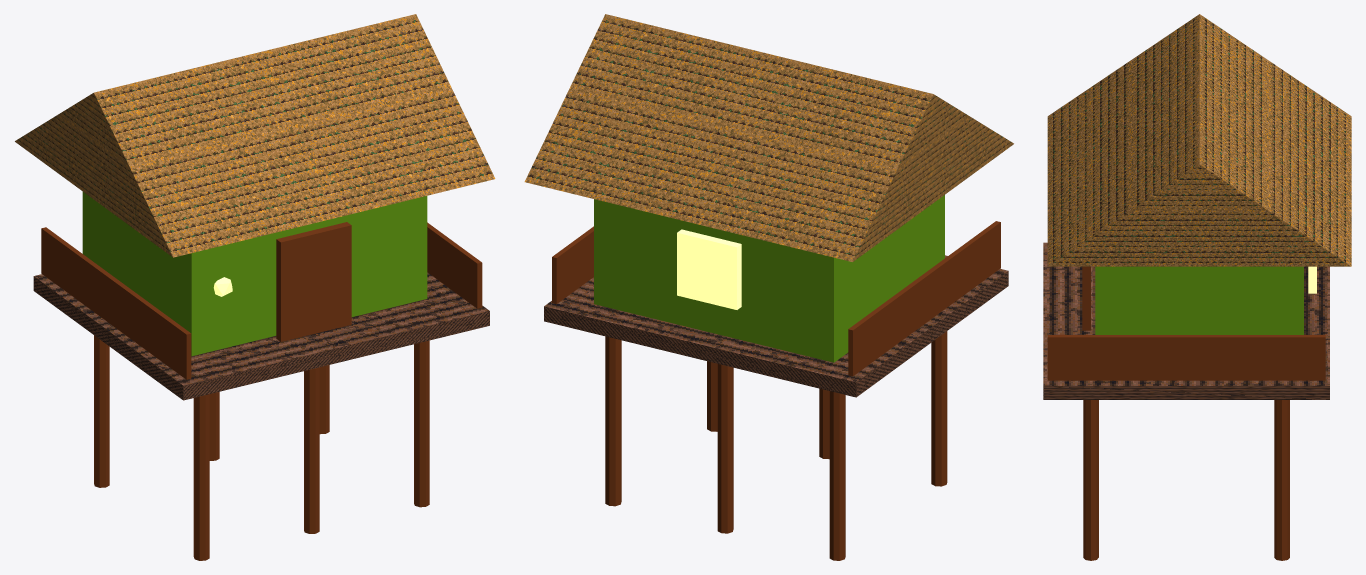
Rendered from palafito.glb.
3 renders of one model, left to right at view 1: azimuth 30°, elevation 25°; view 2: azimuth 150°, elevation 25°; view 3: azimuth 270°, elevation 25°, orthographic. The views are drawn at different scales.
Parts seen in each view (by area): view 1: Palafito_Techo, Cube.003, Cube, Cube.004, Cube.001, Cube.002, Cylinder, Cylinder.004, Cylinder.002, Cylinder.001, Cylinder.003, Cylinder.005; view 2: Palafito_Techo, Cube.003, Cube, Cube.001, Cube.005, Cylinder.003, Cylinder.001, Cylinder.005, Cylinder, Cube.002, Cylinder.004, Cylinder.002; view 3: Palafito_Techo, Cube.003, Cube.002, Cube, Cylinder.005, Cylinder.004, Cube.004.
Part boxes in pixels (<box>): Palafito_Techo: <box>15,14,495,257</box>; Cube.003: <box>82,191,427,356</box>; Cube: <box>33,272,489,400</box>; Cube.004: <box>276,222,351,341</box>; Cube.001: <box>41,227,191,379</box>; Cube.002: <box>427,222,482,308</box>; Cylinder: <box>193,394,209,560</box>; Cylinder.004: <box>414,340,429,507</box>; Cylinder.002: <box>304,367,319,533</box>; Cylinder.001: <box>94,335,109,487</box>; Cylinder.003: <box>209,392,219,460</box>; Cylinder.005: <box>319,365,329,434</box>; Palafito_Techo: <box>524,14,1013,261</box>; Cube.003: <box>594,195,944,362</box>; Cube: <box>544,255,1008,397</box>; Cube.001: <box>848,221,1000,376</box>; Cube.005: <box>677,229,741,309</box>; Cylinder.003: <box>717,364,733,533</box>; Cylinder.001: <box>829,391,845,560</box>; Cylinder.005: <box>605,336,621,506</box>; Cylinder: <box>931,331,947,486</box>; Cube.002: <box>552,226,593,304</box>; Cylinder.004: <box>707,361,717,431</box>; Cylinder.002: <box>819,388,829,459</box>; Palafito_Techo: <box>1047,14,1351,266</box>; Cube.003: <box>1095,266,1303,334</box>; Cube.002: <box>1047,335,1325,380</box>; Cube: <box>1043,242,1329,399</box>; Cylinder.005: <box>1274,400,1289,560</box>; Cylinder.004: <box>1083,400,1098,560</box>; Cube.004: <box>1082,266,1090,330</box>.
Bounding box in the file's own units: 4.1 × 5.3 × 3.55.
5 materials, 2 textured.
